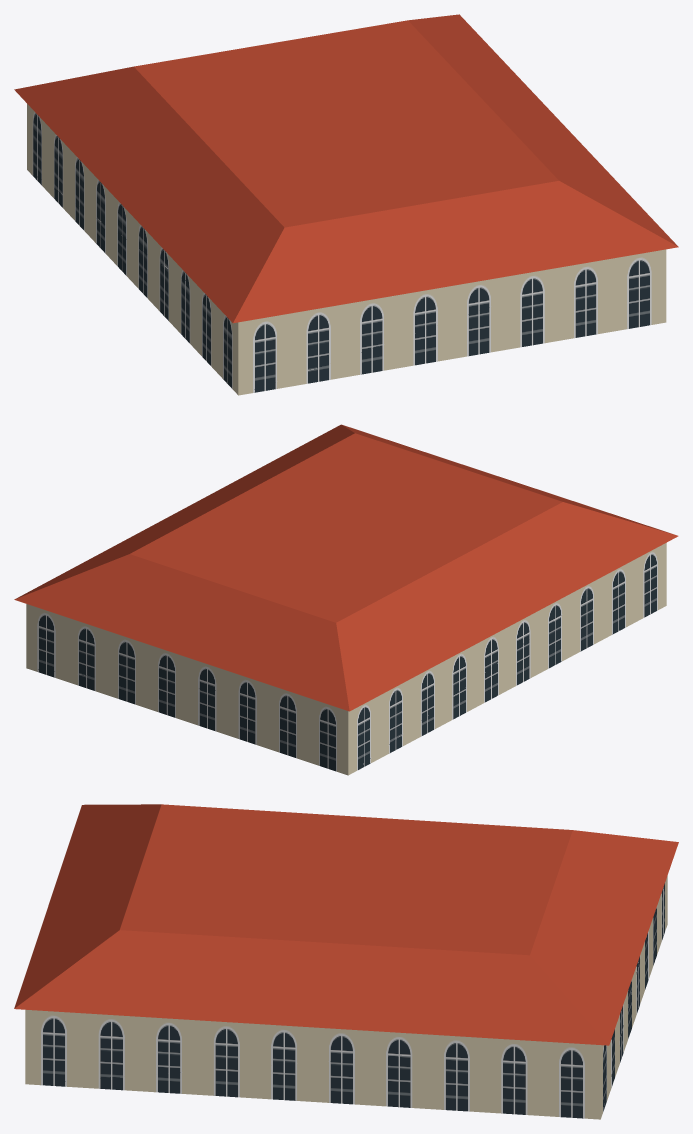
Rendered from cmb_bld.glb.
3 renders of one model, top to bottom at view 1: azimuth 30°, elevation 25°; view 2: azimuth 150°, elevation 25°; view 3: azimuth 270°, elevation 25°, orthographic. The views are drawn at different scales.
Visible parts, largest first — view 1: cmb_bld_lod0; view 2: cmb_bld_lod0; view 3: cmb_bld_lod0.
Part boxes in pixels (left/top/right/bottom): cmb_bld_lod0: left=14, top=14, right=678, bottom=395; cmb_bld_lod0: left=14, top=424, right=678, bottom=775; cmb_bld_lod0: left=14, top=804, right=678, bottom=1119.
Size of what is drawn, in the model's own units: 34.06 by 8.2 by 39.76.
Materials: 3 (1 with a texture image).
